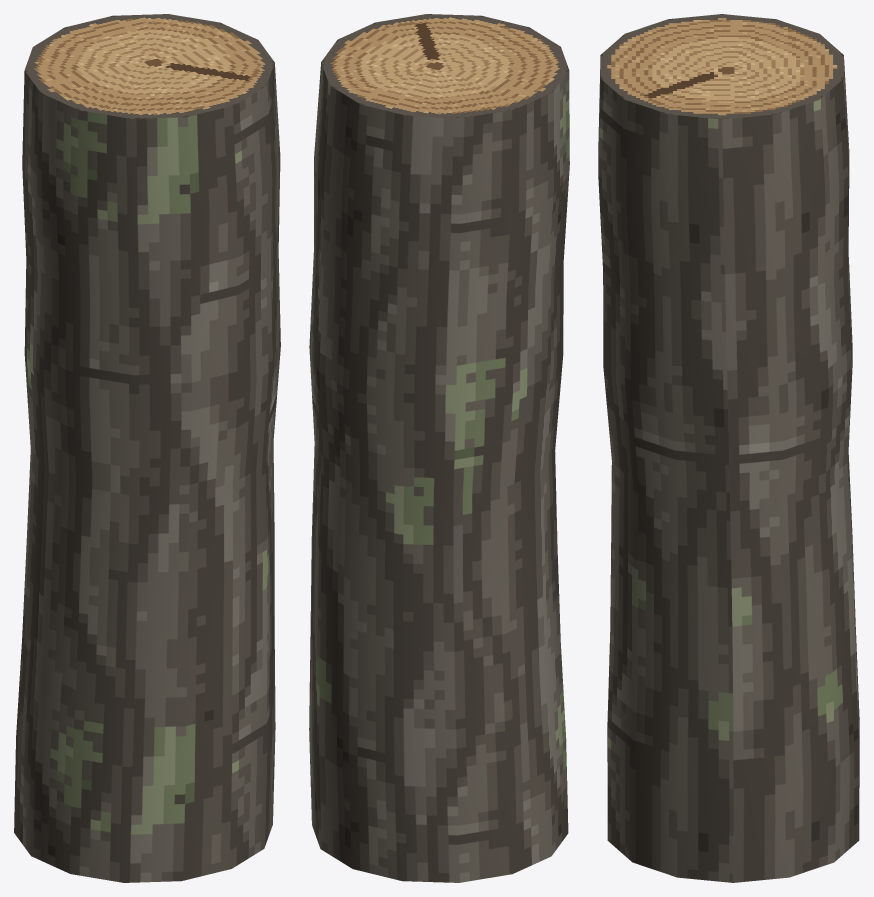
The model's file is environment_elm_loghalf_v34.fbx.
3 views of the same model, side by side, from view 1: azimuth 30°, elevation 25°; view 2: azimuth 150°, elevation 25°; view 3: azimuth 270°, elevation 25° (orthographic).
Visible parts, largest first — view 1: environment_elm_loghalf_v34; view 2: environment_elm_loghalf_v34; view 3: environment_elm_loghalf_v34.
Boxes of the visible parts, <box> form: environment_elm_loghalf_v34: <box>14,14,280,882</box>; environment_elm_loghalf_v34: <box>309,14,569,882</box>; environment_elm_loghalf_v34: <box>598,14,859,882</box>.
Size of the model in its own units: 126 by 400 by 124.
Materials: 2 (2 with a texture image).
